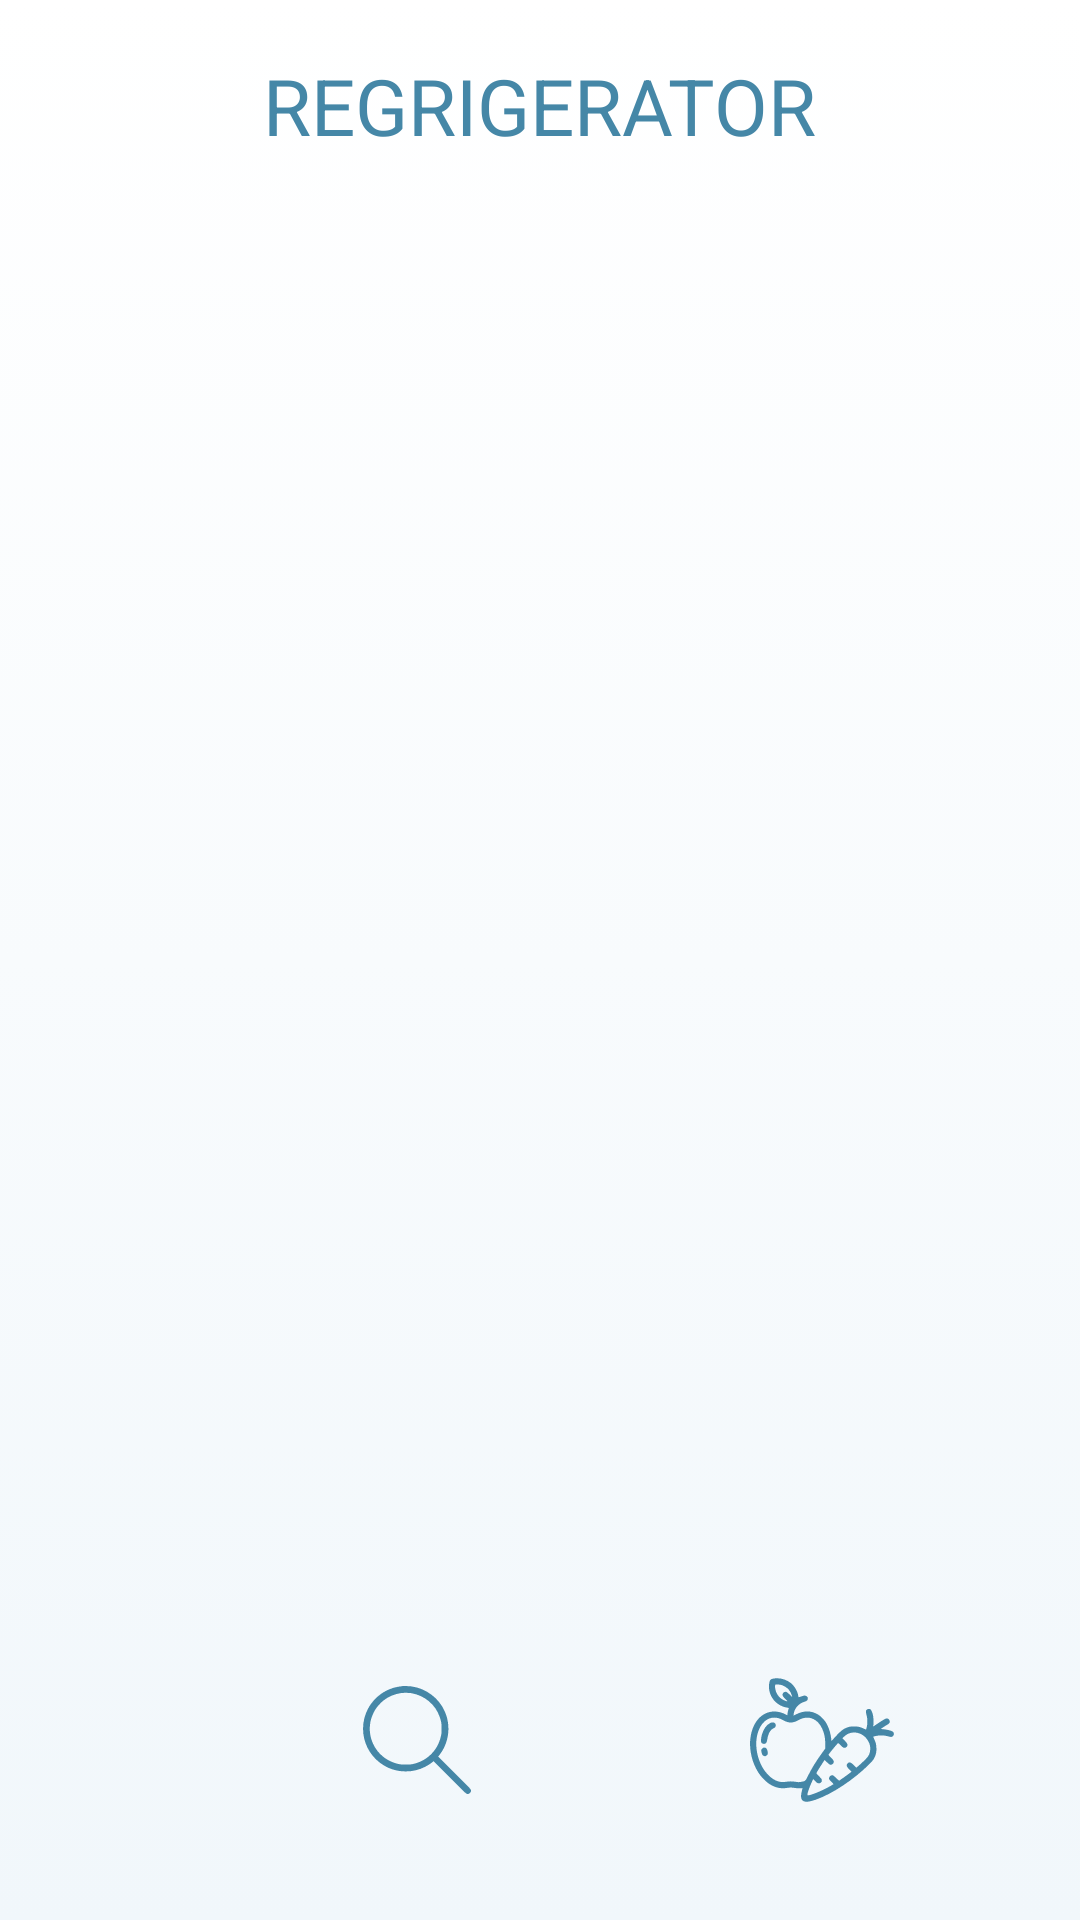

Screen size 1080 x 1920. Icon name, then its center in pixels as (x,y):
harvest: (822,1740)
search: (417,1740)
